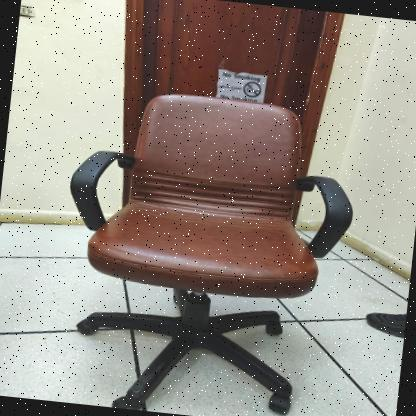chair: (42, 75, 369, 416)
